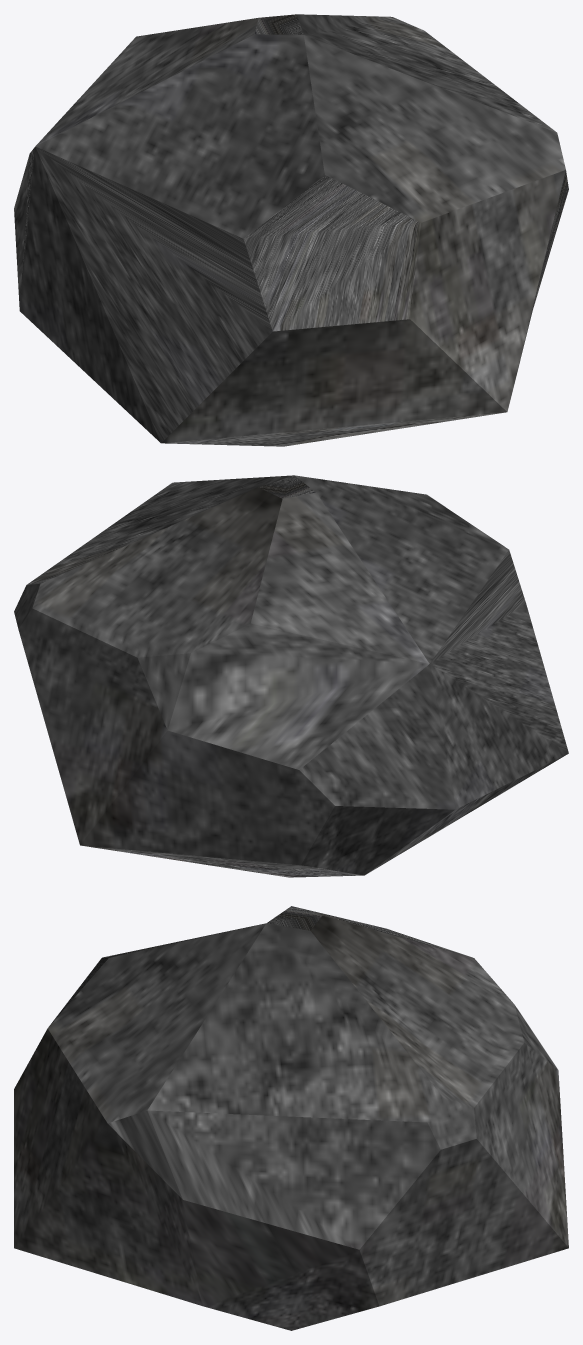
The model's file is Caillou_attack_2_Boss_Roche.glb.
3 views of the same model, one above another, from view 1: azimuth 30°, elevation 25°; view 2: azimuth 150°, elevation 25°; view 3: azimuth 270°, elevation 25° (orthographic). The views are drawn at different scales.
Visible parts, largest first — view 1: Icosphere; view 2: Icosphere; view 3: Icosphere.
Boxes of the visible parts, x1=… form: Icosphere: x1=14, y1=14, x2=568, y2=446; Icosphere: x1=14, y1=475, x2=568, y2=877; Icosphere: x1=14, y1=906, x2=568, y2=1330.
Bounding box in the file's own units: 6.05 × 5.25 × 6.5.
1 material, 1 textured.
